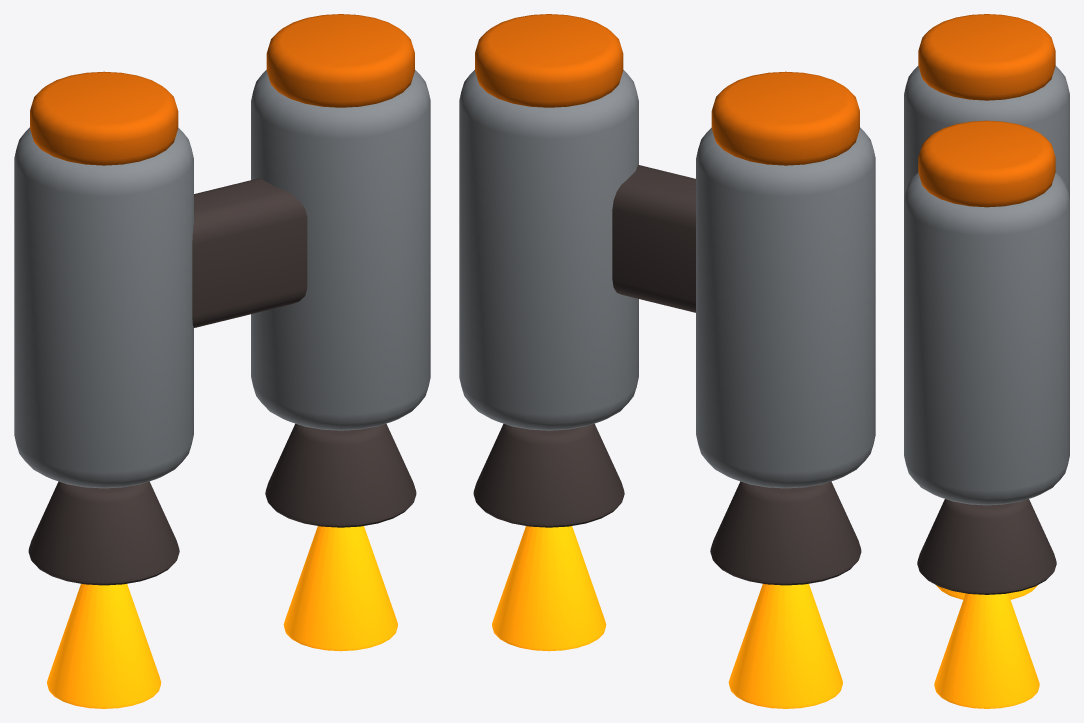
Rendered from part_jetpack.glb.
3 renders of one model, left to right at view 1: azimuth 30°, elevation 25°; view 2: azimuth 150°, elevation 25°; view 3: azimuth 270°, elevation 25°, orthographic. The views are drawn at different scales.
Visible parts, largest first — view 1: Jet_Tank_L, Jet_Tank_R, Jet_Bridge, Jet_Nozzle_L, Jet_Nozzle_R, Jet_Cap_R, Jet_Cap_L, Jet_Flame_L, Jet_Flame_R; view 2: Jet_Tank_L, Jet_Tank_R, Jet_Nozzle_L, Jet_Nozzle_R, Jet_Cap_R, Jet_Cap_L, Jet_Bridge, Jet_Flame_L, Jet_Flame_R; view 3: Jet_Tank_R, Jet_Nozzle_R, Jet_Cap_L, Jet_Cap_R, Jet_Flame_R, Jet_Tank_L, Jet_Flame_L.
Part boxes in pixels (x1,y1,x2,y2): Jet_Tank_L: [14, 127, 193, 488]; Jet_Tank_R: [251, 70, 430, 430]; Jet_Bridge: [192, 178, 307, 327]; Jet_Nozzle_L: [28, 481, 179, 585]; Jet_Nozzle_R: [265, 423, 416, 527]; Jet_Cap_R: [266, 14, 414, 107]; Jet_Cap_L: [30, 71, 178, 165]; Jet_Flame_L: [47, 583, 161, 708]; Jet_Flame_R: [283, 526, 397, 651]; Jet_Tank_L: [696, 127, 875, 488]; Jet_Tank_R: [459, 70, 638, 430]; Jet_Nozzle_L: [710, 481, 861, 585]; Jet_Nozzle_R: [473, 423, 624, 527]; Jet_Cap_R: [475, 14, 623, 107]; Jet_Cap_L: [711, 71, 859, 165]; Jet_Bridge: [612, 165, 695, 312]; Jet_Flame_L: [728, 583, 842, 708]; Jet_Flame_R: [492, 526, 606, 651]; Jet_Tank_R: [904, 172, 1069, 505]; Jet_Nozzle_R: [917, 499, 1056, 594]; Jet_Cap_L: [918, 14, 1055, 100]; Jet_Cap_R: [918, 120, 1055, 207]; Jet_Flame_R: [934, 593, 1039, 708]; Jet_Tank_L: [904, 66, 1069, 199]; Jet_Flame_L: [936, 585, 1037, 599].
Size of the model in its own units: 0.58 by 0.83 by 0.23.
